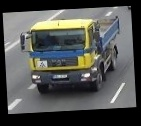truck: (19, 15, 123, 96)
